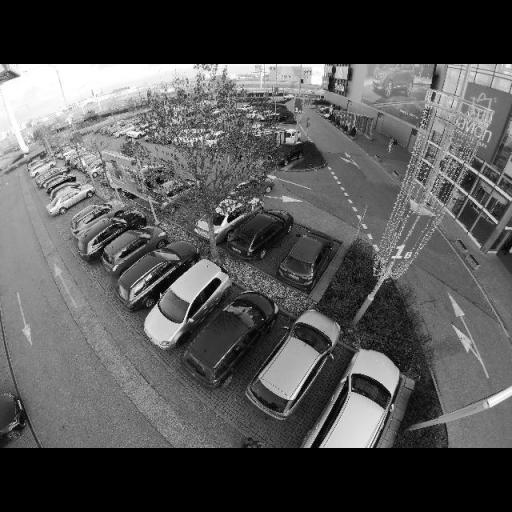busy: (248, 313, 342, 420), (315, 348, 413, 444), (186, 290, 281, 388), (147, 258, 229, 342), (124, 246, 194, 303), (279, 230, 339, 284), (226, 212, 292, 257), (78, 208, 140, 254), (102, 228, 162, 271), (208, 199, 256, 236), (220, 174, 274, 204), (1, 391, 29, 446), (48, 185, 94, 212), (72, 201, 115, 228), (44, 172, 79, 191)
free: (62, 194, 94, 219)
